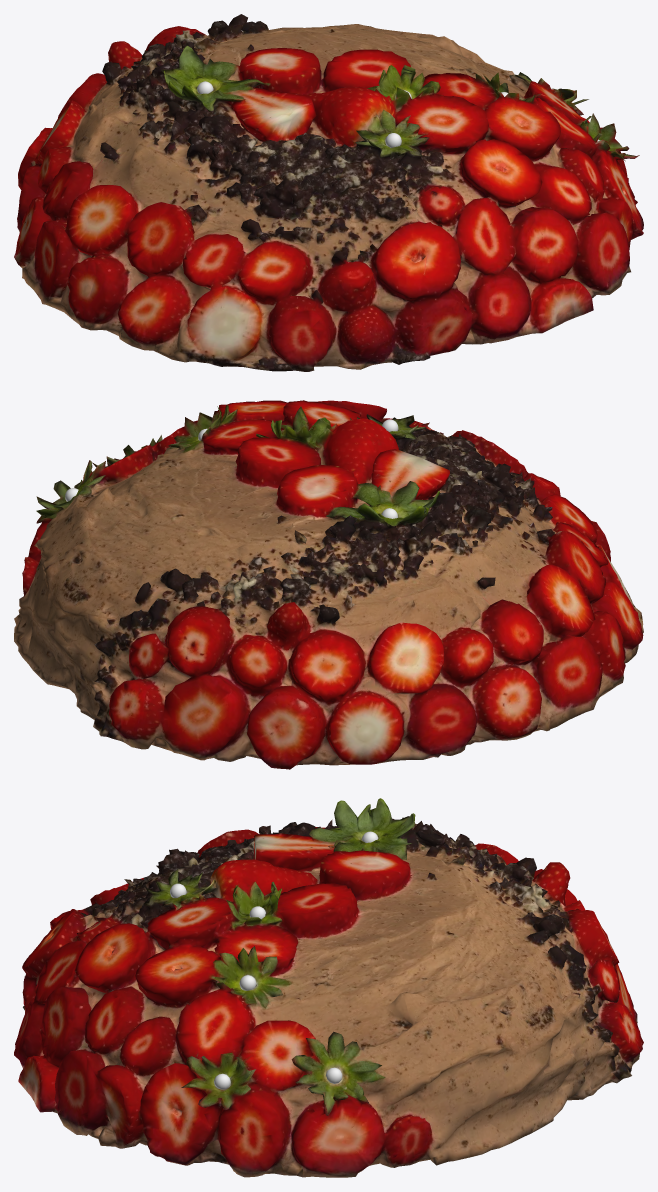
File: strawberry_chocolate_cake.glb
3 renders of one model, top to bottom at view 1: azimuth 30°, elevation 25°; view 2: azimuth 150°, elevation 25°; view 3: azimuth 270°, elevation 25°, orthographic. The views are drawn at different scales.
Visible parts, largest first — view 1: strawberry_chocolate_cake; view 2: strawberry_chocolate_cake; view 3: strawberry_chocolate_cake.
Part boxes in pixels (x1,y1,x2,y2): strawberry_chocolate_cake: (14,14,643,371); strawberry_chocolate_cake: (14,400,643,769); strawberry_chocolate_cake: (14,798,643,1177).
Size of the model in its own units: 0.2443 by 0.0792 by 0.2403.
Materials: 1 (1 with a texture image).
